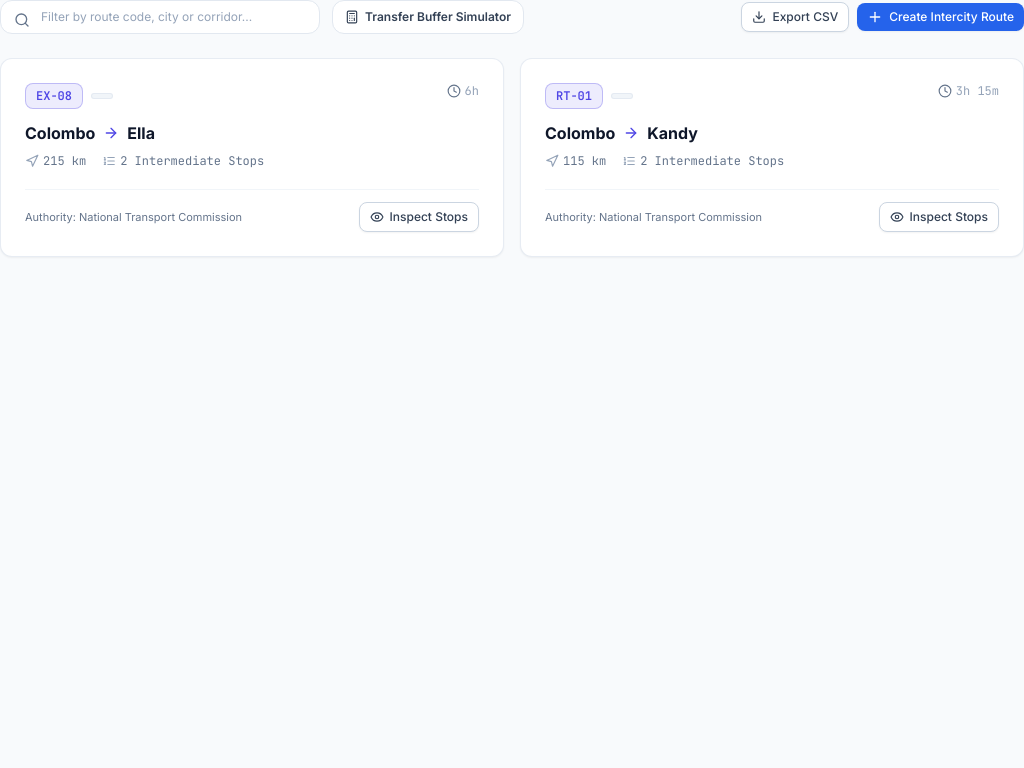
Test case: RouteManagerPage › opens intermediate stop inspection drawer when clicking Inspect Stops
The image size is (1024, 768).
Step 1. Click the button "Inspect Stops" below "Ella" → {"x": 419, "y": 217}, box top-left (358, 202), bottom-right (479, 232)
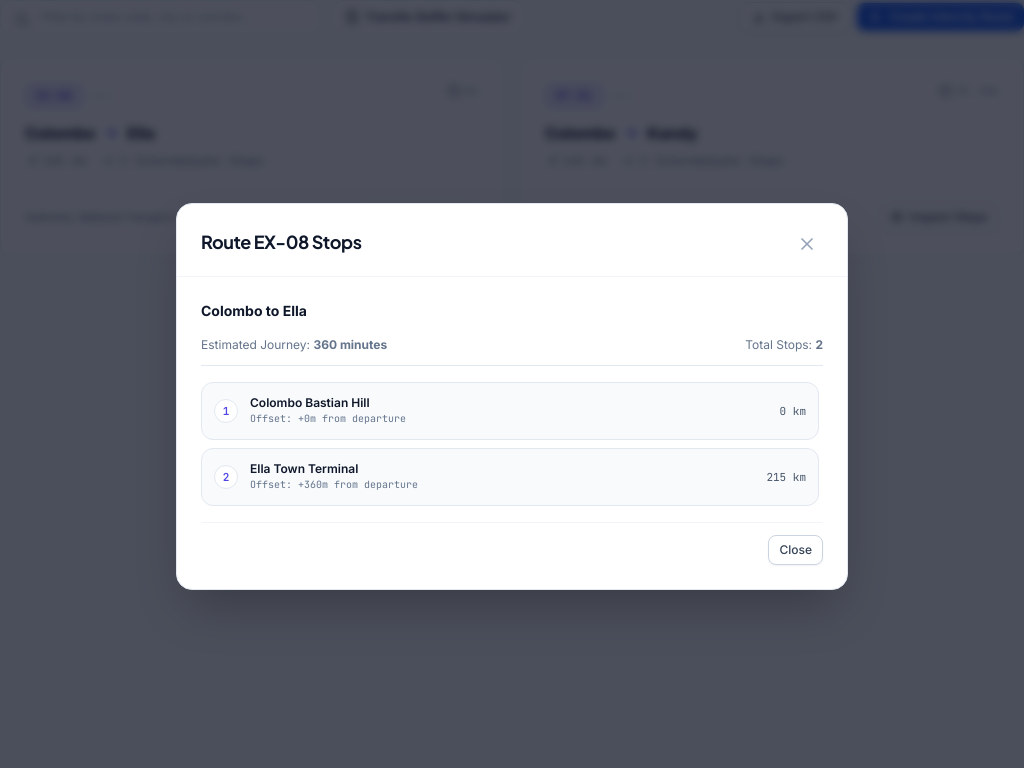
Expected: the text "Colombo to Ella" is shown, top-left (201, 302), bottom-right (307, 318)
Expected: the text "Colombo Bastian Hill" is shown, top-left (250, 394), bottom-right (370, 410)
Expected: the text "Ella Town Terminal" is shown, top-left (250, 460), bottom-right (358, 476)
